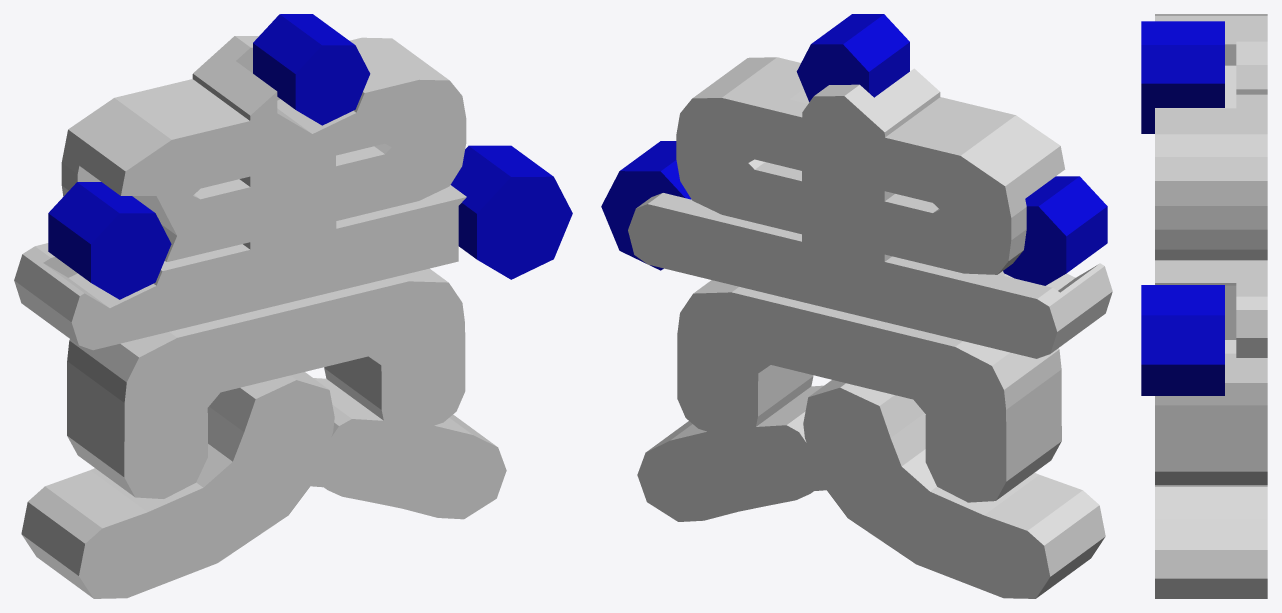
File: Ch_Lite_China_贵_01.fbx
3 views of the same model, side by side, from view 1: azimuth 30°, elevation 25°; view 2: azimuth 150°, elevation 25°; view 3: azimuth 270°, elevation 25° (orthographic). The views are drawn at different scales.
Visible parts, largest first — view 1: sphere1; view 2: sphere1; view 3: sphere1.
Boxes of the visible parts, box(x1,y1,x2,y2) form: sphere1: box(14, 14, 572, 598); sphere1: box(601, 14, 1112, 598); sphere1: box(1141, 14, 1267, 598).
Size of the model in its own units: 0.9924 by 0.9886 by 0.2242.
